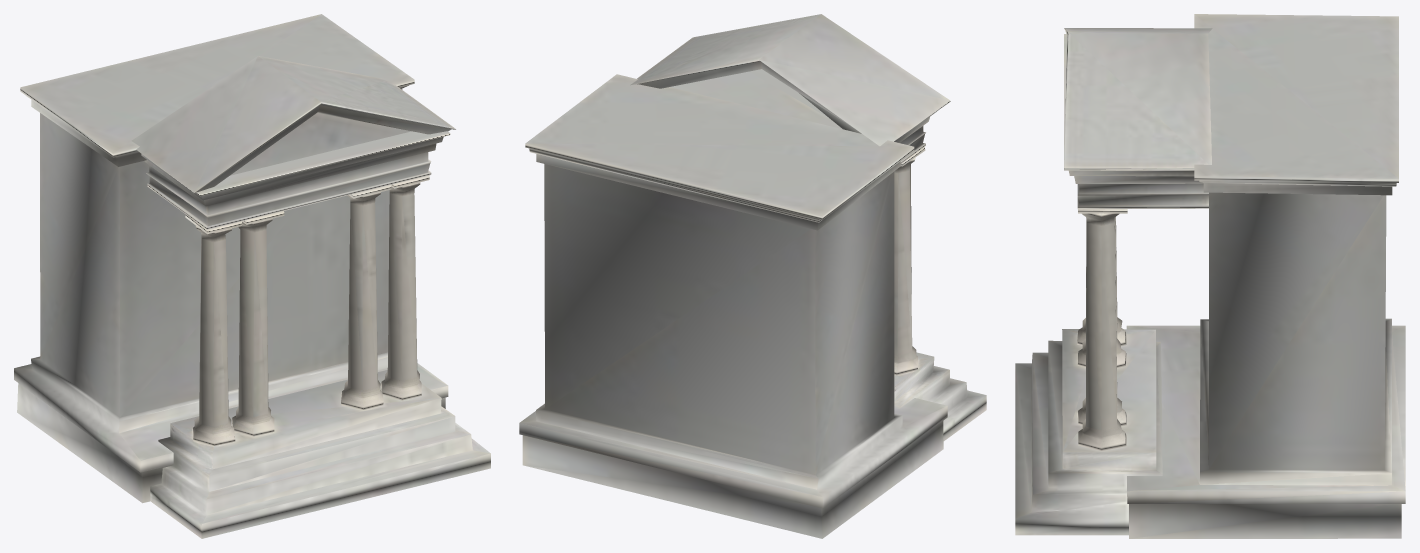
The model's file is portico.glb.
3 renders of one model, left to right at view 1: azimuth 30°, elevation 25°; view 2: azimuth 150°, elevation 25°; view 3: azimuth 270°, elevation 25°, orthographic. The views are drawn at different scales.
Bounding box in the file's own units: 5.03 × 6 × 5.01.
Materials: 1 (1 with a texture image).
